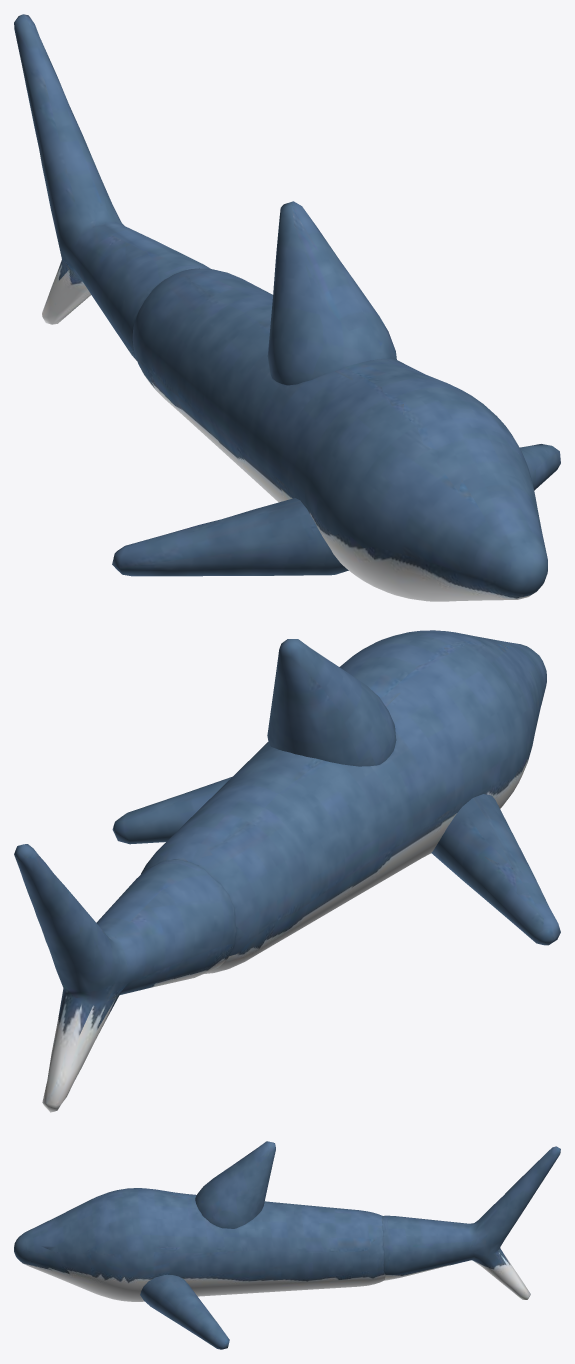
File: shark.glb
3 views of the same model, one above another, from view 1: azimuth 30°, elevation 25°; view 2: azimuth 150°, elevation 25°; view 3: azimuth 270°, elevation 25° (orthographic). The views are drawn at different scales.
Parts seen in each view (by area): view 1: shark, tail; view 2: shark, tail; view 3: shark, tail.
Boxes of the visible parts, x1=… form: shark: x1=112, y1=201, x2=560, y2=601; tail: x1=14, y1=14, x2=210, y2=360; shark: x1=112, y1=630, x2=560, y2=973; tail: x1=14, y1=844, x2=236, y2=1112; shark: x1=14, y1=1141, x2=385, y2=1349; tail: x1=382, y1=1146, x2=560, y2=1299.
Bounding box in the file's own units: 0.6318 × 0.4042 × 1.26.
Materials: 1 (1 with a texture image).
